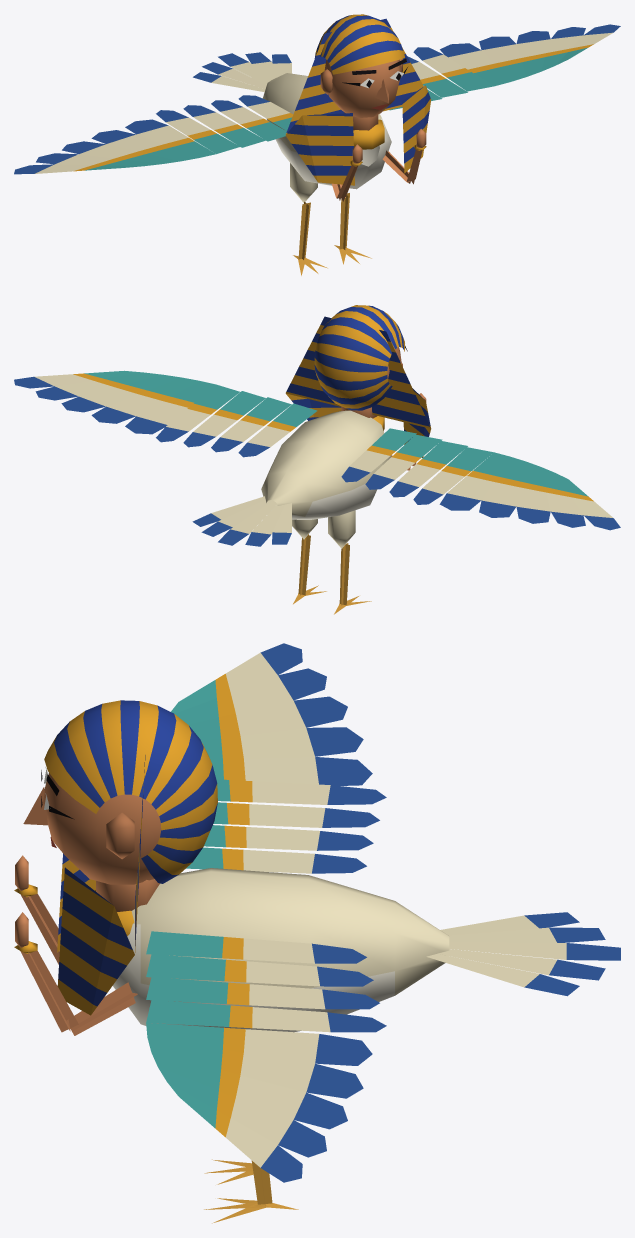
3 views of the same model, one above another, from view 1: azimuth 30°, elevation 25°; view 2: azimuth 150°, elevation 25°; view 3: azimuth 270°, elevation 25° (orthographic). The views are drawn at different scales.
Parts seen in each view (by area): view 1: head, body, wing_hand_mirror, wing_hand, wing_arm_mirror, wing_arm, legs, arms; view 2: body, head, wing_hand_mirror, wing_hand, wing_arm, wing_arm_mirror, legs; view 3: head, body, wing_hand, wing_arm, wing_hand_mirror, wing_arm_mirror, arms, legs.
Part boxes in pixels (x1,y1,x2,y2): head: (285, 14, 431, 185); body: (193, 52, 391, 189); wing_hand_mirror: (14, 119, 215, 174); wing_hand: (440, 24, 620, 86); wing_arm_mirror: (156, 95, 293, 153); wing_arm: (389, 47, 493, 110); legs: (290, 163, 371, 275); arms: (332, 129, 426, 201); body: (192, 410, 391, 546); head: (285, 305, 431, 457); wing_hand_mirror: (439, 452, 620, 530); wing_hand: (14, 370, 215, 434); wing_arm: (156, 384, 317, 457); wing_arm_mirror: (341, 428, 493, 504); legs: (292, 510, 371, 614); head: (23, 700, 217, 1015); body: (95, 868, 620, 1032); wing_hand: (146, 1023, 372, 1182); wing_arm: (146, 931, 386, 1032); wing_hand_mirror: (171, 643, 372, 785); wing_arm_mirror: (186, 779, 386, 873); arms: (14, 855, 137, 1035); legs: (204, 1159, 298, 1223).
Bounding box in the file's own units: 1.18 × 0.4943 × 0.5606.
